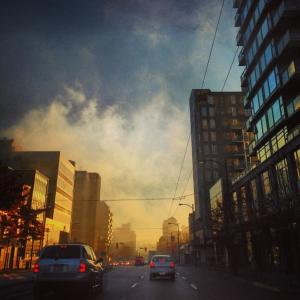Vehicle-registration-plate: (54, 265, 64, 273)
